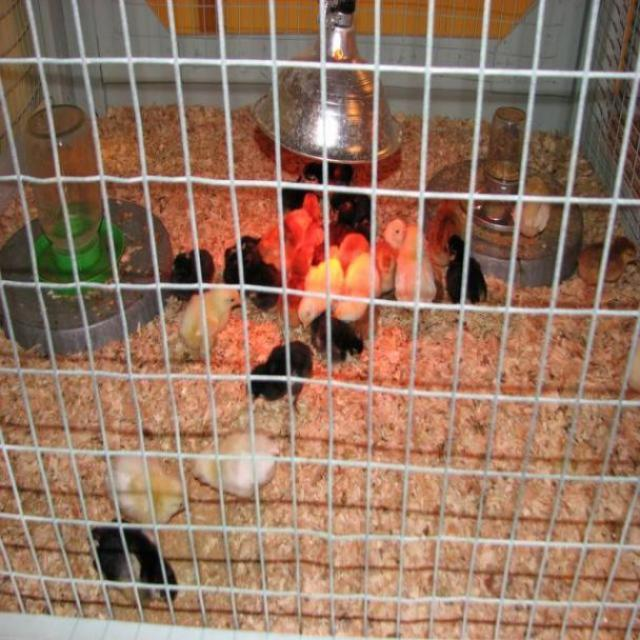Chicken: (182, 429, 282, 520)
